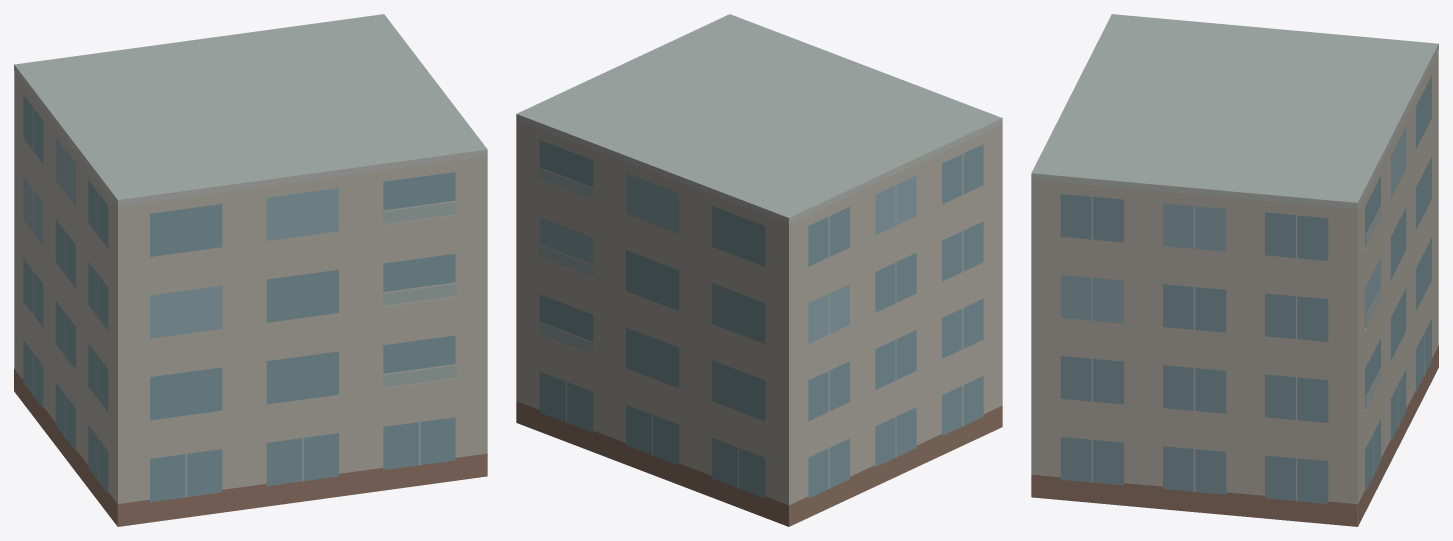
Rendered from residential-63684eb9-c70a-499b-867b-038662370851.glb.
3 renders of one model, left to right at view 1: azimuth 30°, elevation 25°; view 2: azimuth 150°, elevation 25°; view 3: azimuth 270°, elevation 25°, orthographic. The views are drawn at different scales.
Parts seen in each view (by area): view 1: residential-63684eb9-c70a-499b-867b-038662370851.tmp; view 2: residential-63684eb9-c70a-499b-867b-038662370851.tmp; view 3: residential-63684eb9-c70a-499b-867b-038662370851.tmp.
Boxes of the visible parts, x1,y1,x2,y2 form: residential-63684eb9-c70a-499b-867b-038662370851.tmp: (14, 14, 487, 526); residential-63684eb9-c70a-499b-867b-038662370851.tmp: (516, 14, 1002, 526); residential-63684eb9-c70a-499b-867b-038662370851.tmp: (1031, 14, 1438, 526).
Size of the model in its own units: 15.26 by 12.2 by 13.92.
